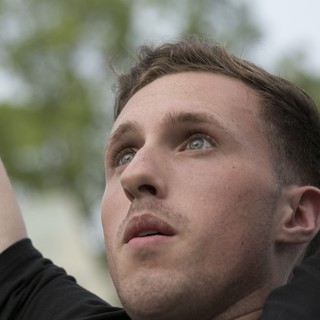eye: (173, 129, 222, 156), (110, 147, 138, 168)
